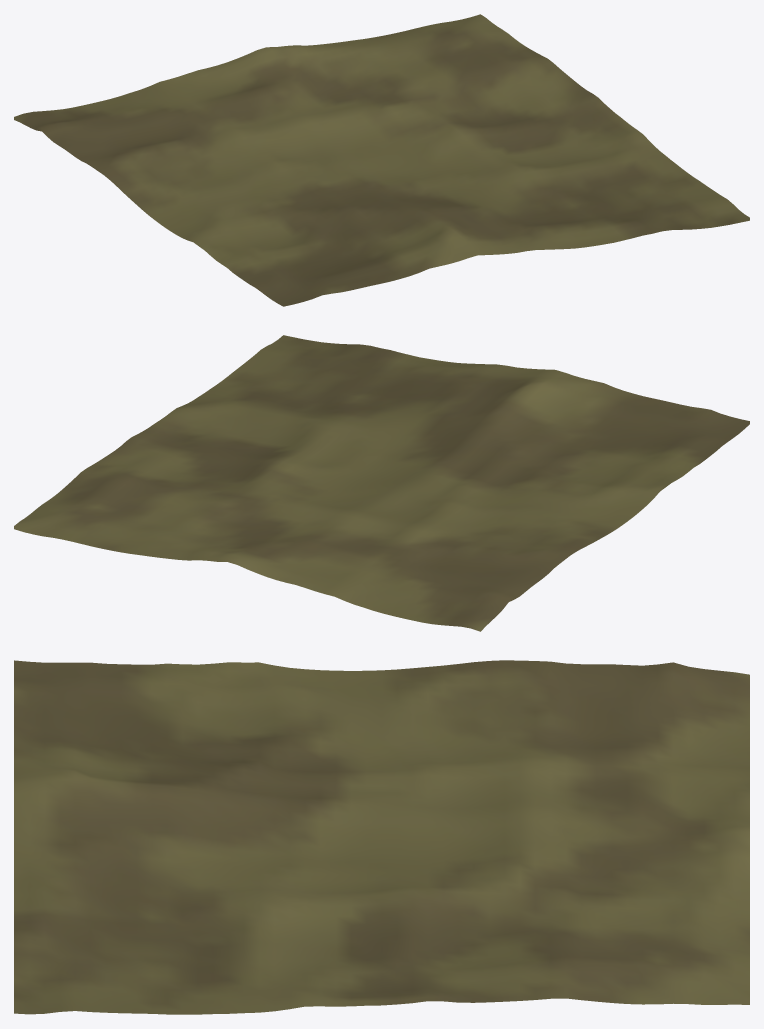
Rendered from land_m_02_09.glb.
3 renders of one model, top to bottom at view 1: azimuth 30°, elevation 25°; view 2: azimuth 150°, elevation 25°; view 3: azimuth 270°, elevation 25°, orthographic. The views are drawn at different scales.
Parts seen in each view (by area): view 1: land_m_02_09; view 2: land_m_02_09; view 3: land_m_02_09.
Part boxes in pixels (<box>): land_m_02_09: <box>14,14,749,306</box>; land_m_02_09: <box>14,335,749,631</box>; land_m_02_09: <box>14,660,749,1014</box>.
Bounding box in the file's own units: 960 × 78.7 × 960.
